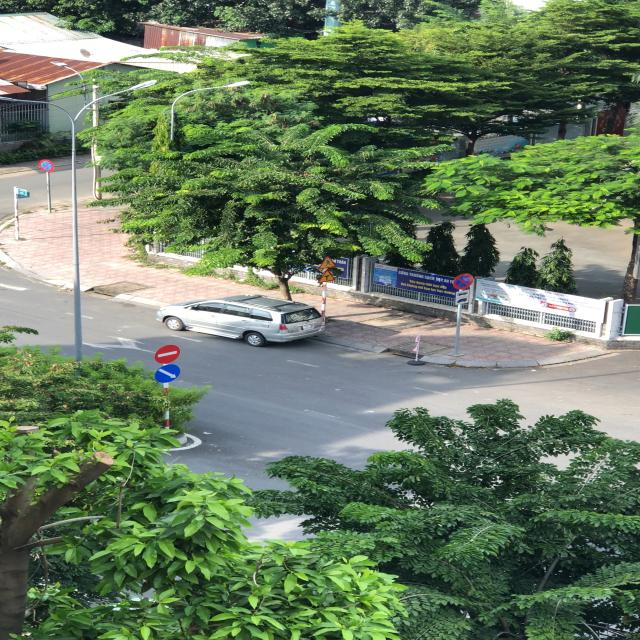Bien bao cam di nguoc chieu: (154, 343, 183, 365)
Bien bao cam dung xe va do xe: (451, 272, 477, 291)
Bien bao duong giao nhau: (317, 269, 340, 284)
Bien bao duong nguoi di bo cat ngang: (318, 255, 340, 269)
Bien bao huong phai di vong chuong ngai vat: (154, 364, 182, 384)
